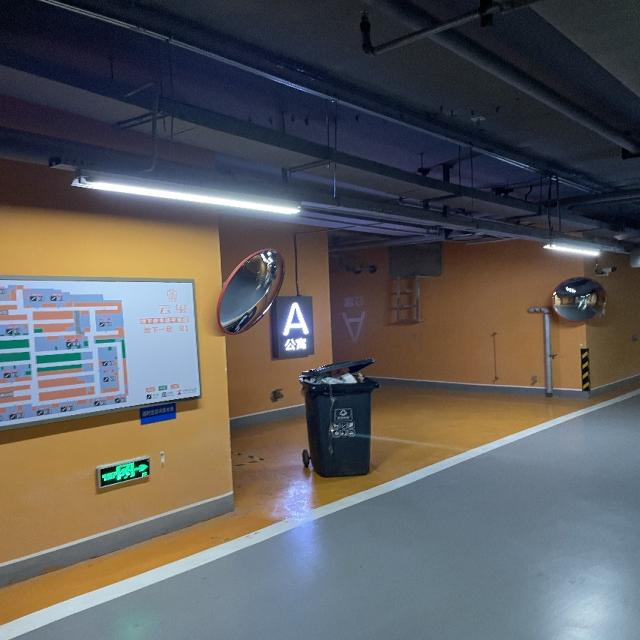overflow: (298, 357, 378, 477)
